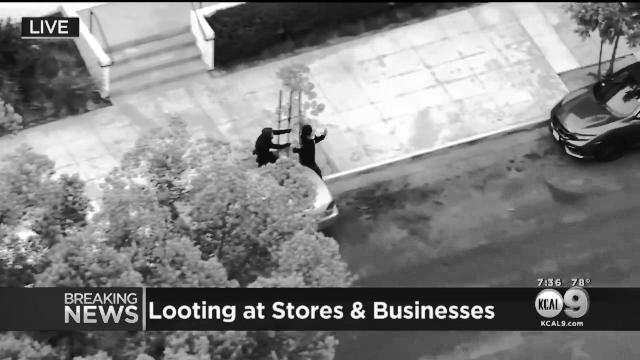berlari: (292, 118, 332, 187), (244, 116, 282, 164)
